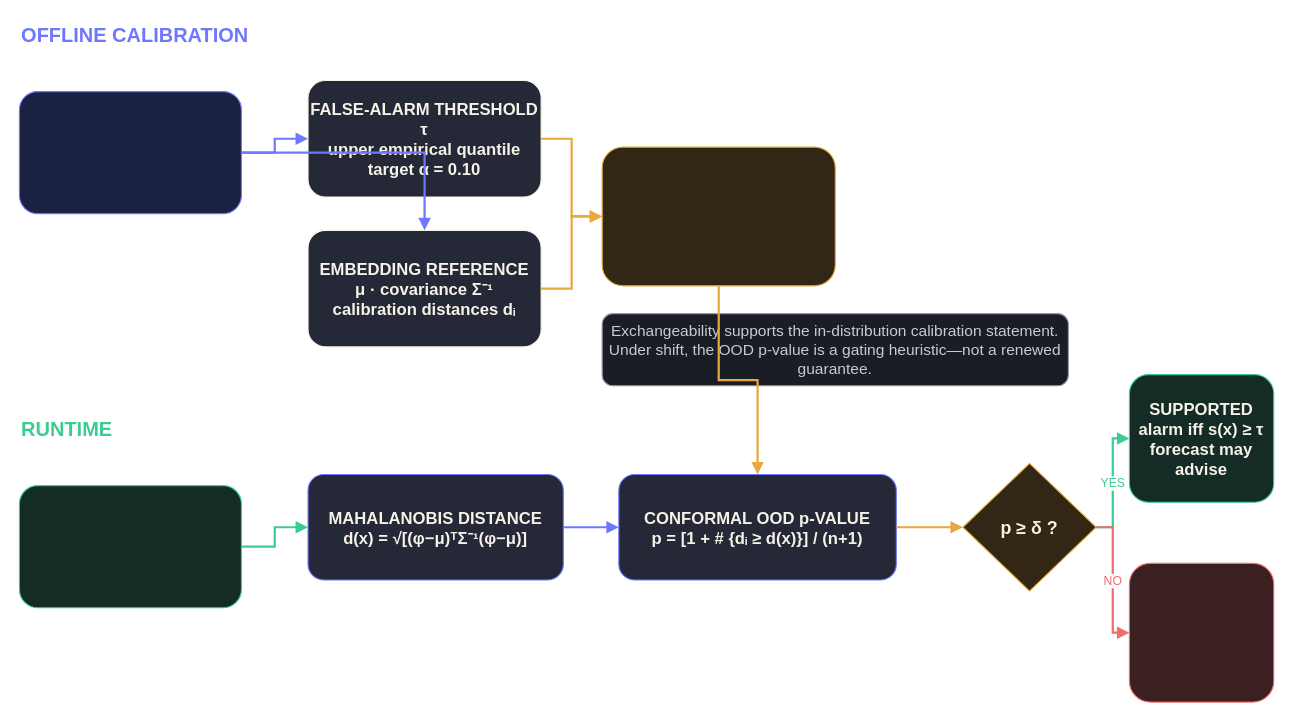
The diagram is 1293 pixels wide and 722 high, and some of its shapes have lost their labels. Here are the shapes that lost their labels. From the top down, the centre of each, then its label:
pixel 129 152: CALIBRATION DRIVERS non-drowsy scores sᵢ fusion embeddings φᵢ
pixel 718 216: SGCA SIDECAR ARTIFACT τ · μ · Σ⁻¹ · {dᵢ} α = .10 · δ = .05
pixel 129 546: NEW WINDOW x risk score s(x) fusion embedding φ(x)
pixel 1201 632: WITHHELD no forecast claim reactive closure rule remains
